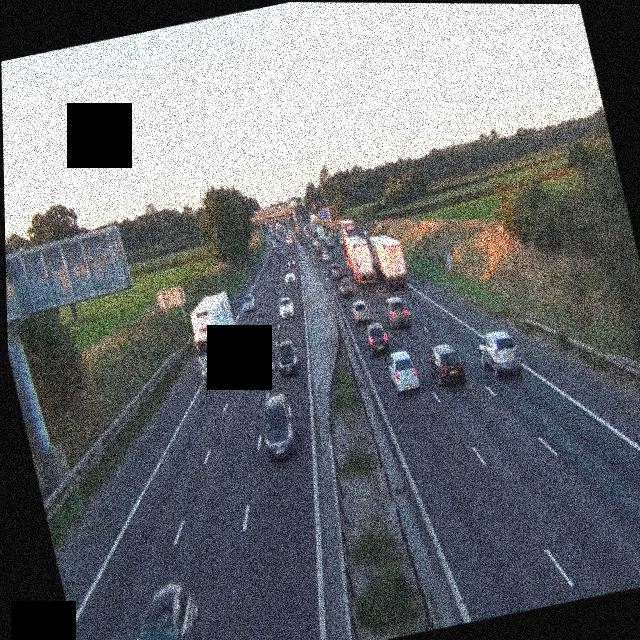car: (112, 577, 214, 640), (254, 390, 303, 462), (475, 327, 524, 379), (425, 340, 466, 389), (384, 348, 421, 394), (362, 319, 392, 355), (273, 339, 301, 377), (382, 292, 410, 329), (349, 298, 372, 325), (276, 293, 297, 319), (238, 292, 259, 314), (337, 274, 354, 296), (329, 260, 345, 280), (282, 267, 295, 285), (319, 248, 332, 263), (287, 255, 297, 268), (285, 234, 293, 246)
truck: (183, 288, 248, 383), (370, 231, 409, 288), (343, 229, 380, 288), (308, 213, 323, 237)
